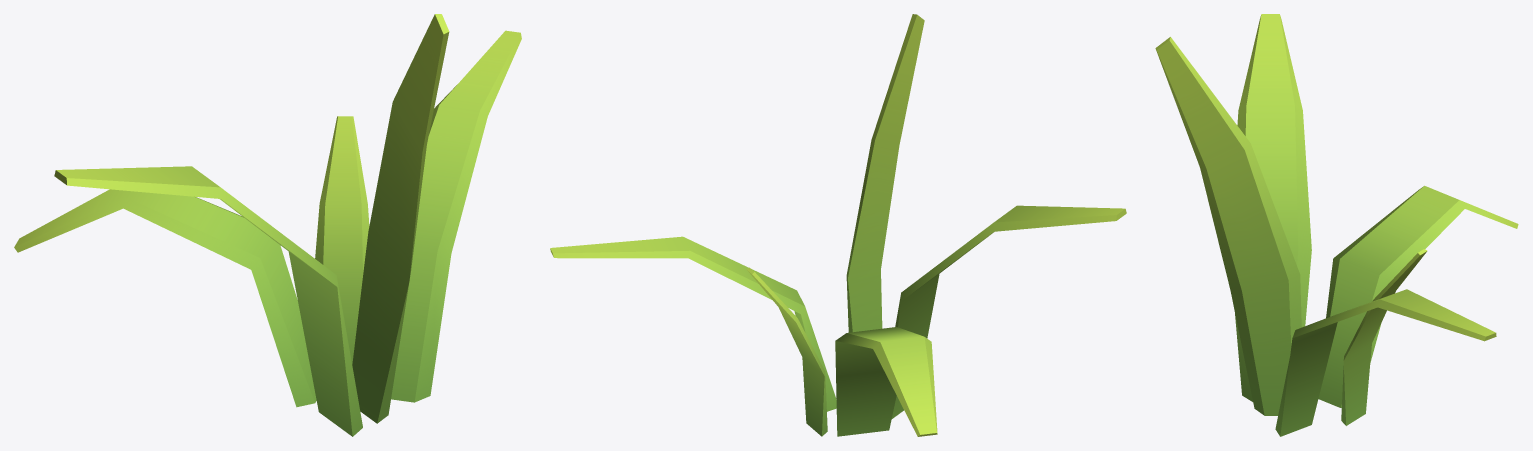
Rendered from Grass6.FBX.
3 renders of one model, left to right at view 1: azimuth 30°, elevation 25°; view 2: azimuth 150°, elevation 25°; view 3: azimuth 270°, elevation 25°, orthographic. The views are drawn at different scales.
Visible parts, largest first — view 1: Grass6; view 2: Grass6; view 3: Grass6.
Boxes of the visible parts, x1=… form: Grass6: x1=14, y1=14, x2=521, y2=436; Grass6: x1=550, y1=14, x2=1126, y2=436; Grass6: x1=1155, y1=14, x2=1518, y2=436.
Size of the model in its own units: 44.66 by 32.28 by 28.28.
